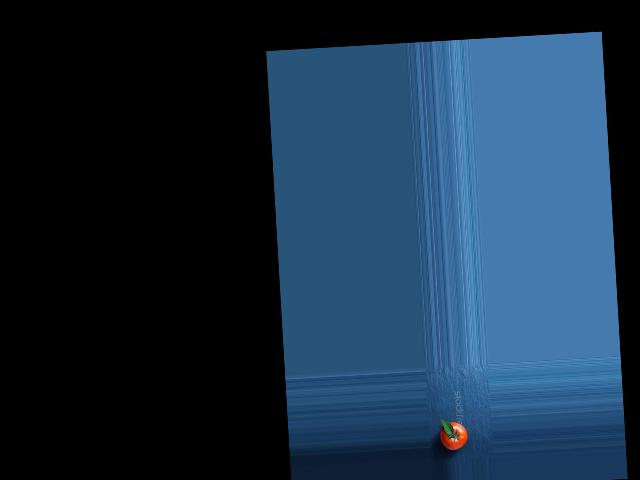tomato: (439, 421, 467, 450)
